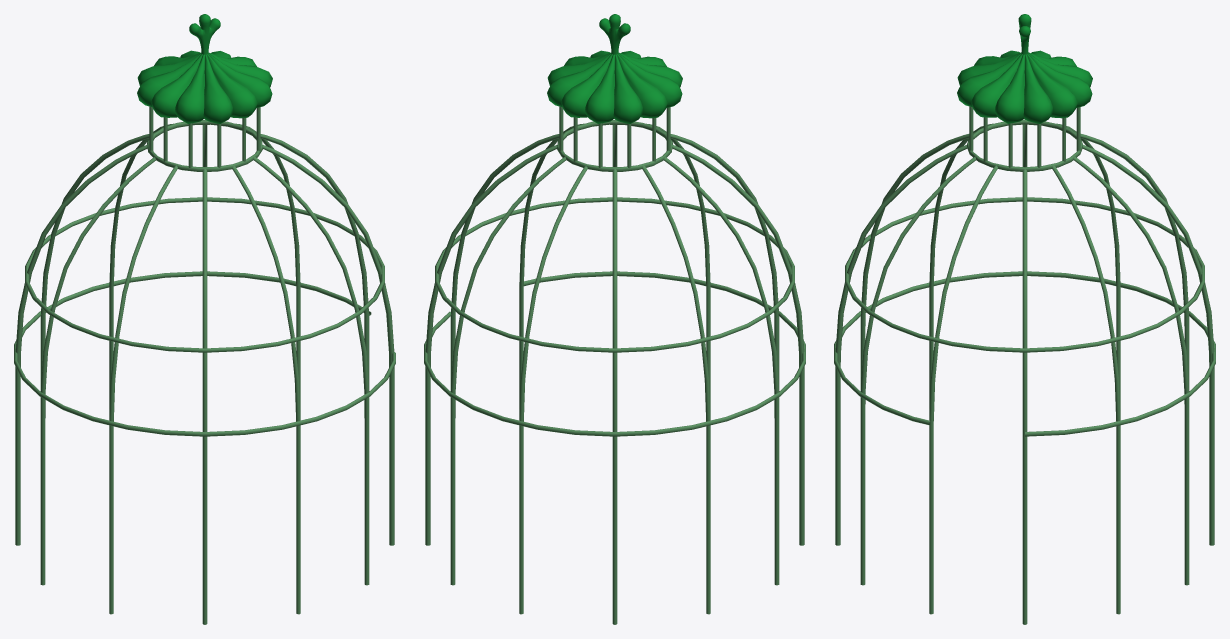
File: RococoCage.fbx
The picture shows the model from 3 angles, left to right: view 1: azimuth 30°, elevation 25°; view 2: azimuth 150°, elevation 25°; view 3: azimuth 270°, elevation 25°; orthographic projection.
Parts seen in each view (by area): view 1: RococoCage; view 2: RococoCage; view 3: RococoCage.
Part boxes in pixels (left/top/right/bottom): RococoCage: left=14, top=14, right=395, bottom=624; RococoCage: left=424, top=14, right=805, bottom=624; RococoCage: left=834, top=14, right=1215, bottom=624.
Bounding box in the file's own units: 206 × 314 × 205.
